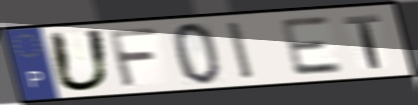0: (171, 20, 224, 86)
E: (276, 14, 347, 78)
F: (105, 26, 161, 90)
I: (224, 19, 258, 82)
T: (341, 13, 384, 71)
U: (45, 27, 115, 94)
